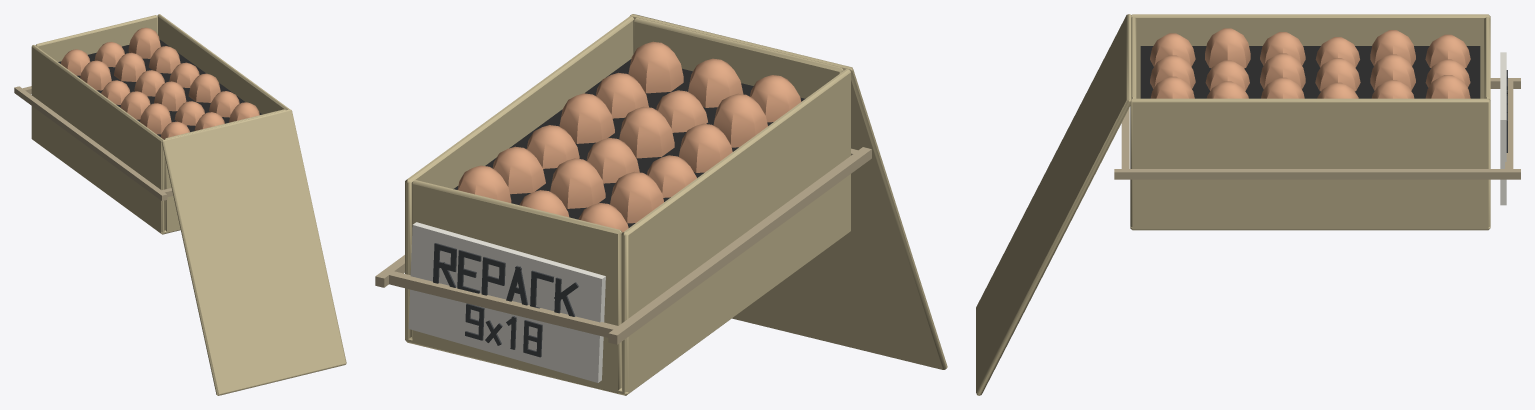
File: ammo_9x18_repack.glb
3 renders of one model, left to right at view 1: azimuth 30°, elevation 25°; view 2: azimuth 150°, elevation 25°; view 3: azimuth 270°, elevation 25°, orthographic. The views are drawn at different scales.
Visible parts, largest first — view 1: body; view 2: body; view 3: body.
Part boxes in pixels (<box>): body: <box>14,14,346,395</box>; body: <box>375,14,947,395</box>; body: <box>976,14,1520,395</box>.
Size of the model in its own units: 0.0434 by 0.0643 by 0.1059.
